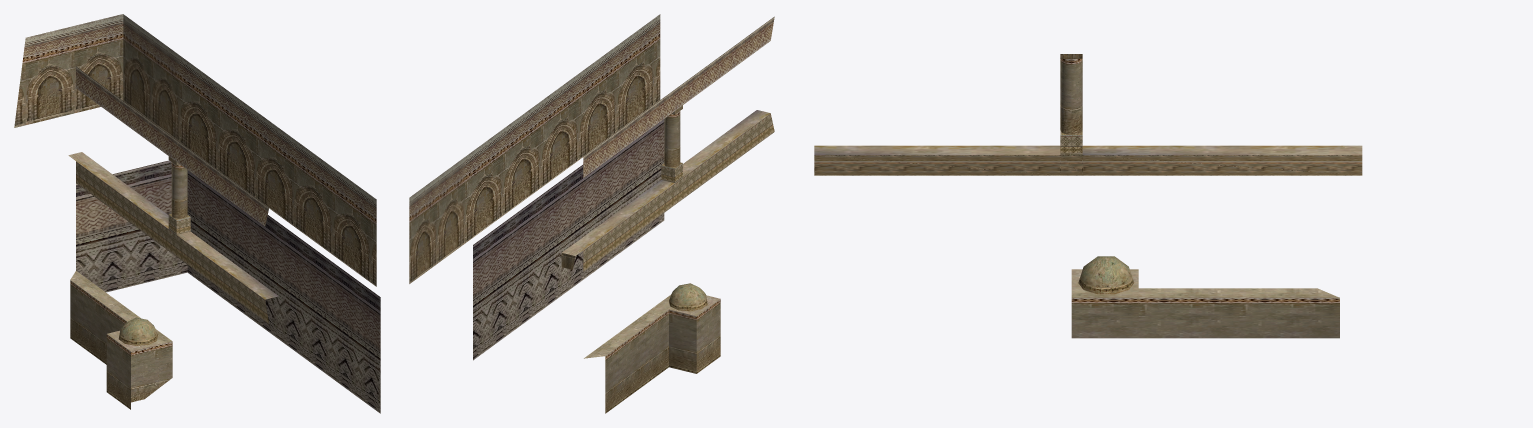
File: M7_CourtYard_E.glb
The picture shows the model from 3 angles, left to right: view 1: azimuth 30°, elevation 25°; view 2: azimuth 150°, elevation 25°; view 3: azimuth 270°, elevation 25°; orthographic projection. The views are drawn at different scales.
Parts seen in each view (by area): view 1: M7_COURTYARD_E; view 2: M7_COURTYARD_E; view 3: M7_COURTYARD_E.
Part boxes in pixels (x1,y1,x2,y2): M7_COURTYARD_E: [14, 14, 380, 413]; M7_COURTYARD_E: [409, 14, 774, 413]; M7_COURTYARD_E: [814, 54, 1362, 338].
Size of the model in its own units: 5.5 by 9 by 16.
6 materials, 6 textured.
